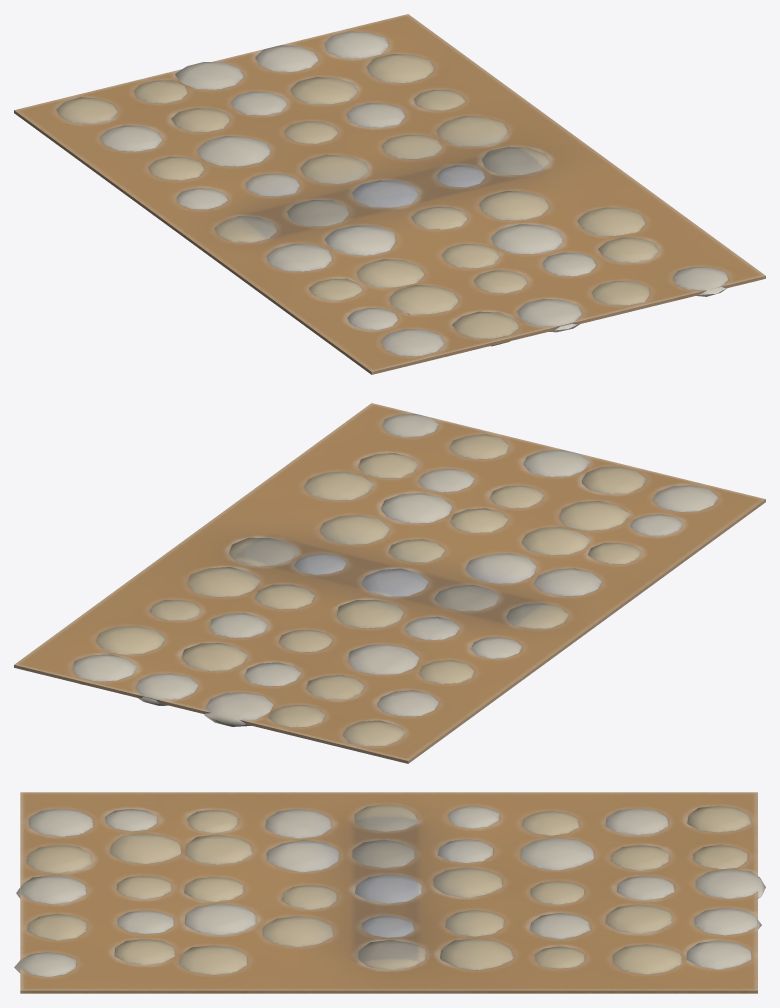
File: path_stones.glb
3 renders of one model, top to bottom at view 1: azimuth 30°, elevation 25°; view 2: azimuth 150°, elevation 25°; view 3: azimuth 270°, elevation 25°, orthographic. The views are drawn at different scales.
Visible parts, largest first — view 1: SM_PathStones; view 2: SM_PathStones; view 3: SM_PathStones.
Boxes of the visible parts, x1,y1,x2,y2 form: SM_PathStones: [14, 14, 765, 374]; SM_PathStones: [14, 403, 765, 763]; SM_PathStones: [14, 792, 765, 993].
Size of the model in its own units: 2.8 by 0.1054 by 4.48.
1 material, 1 textured.
